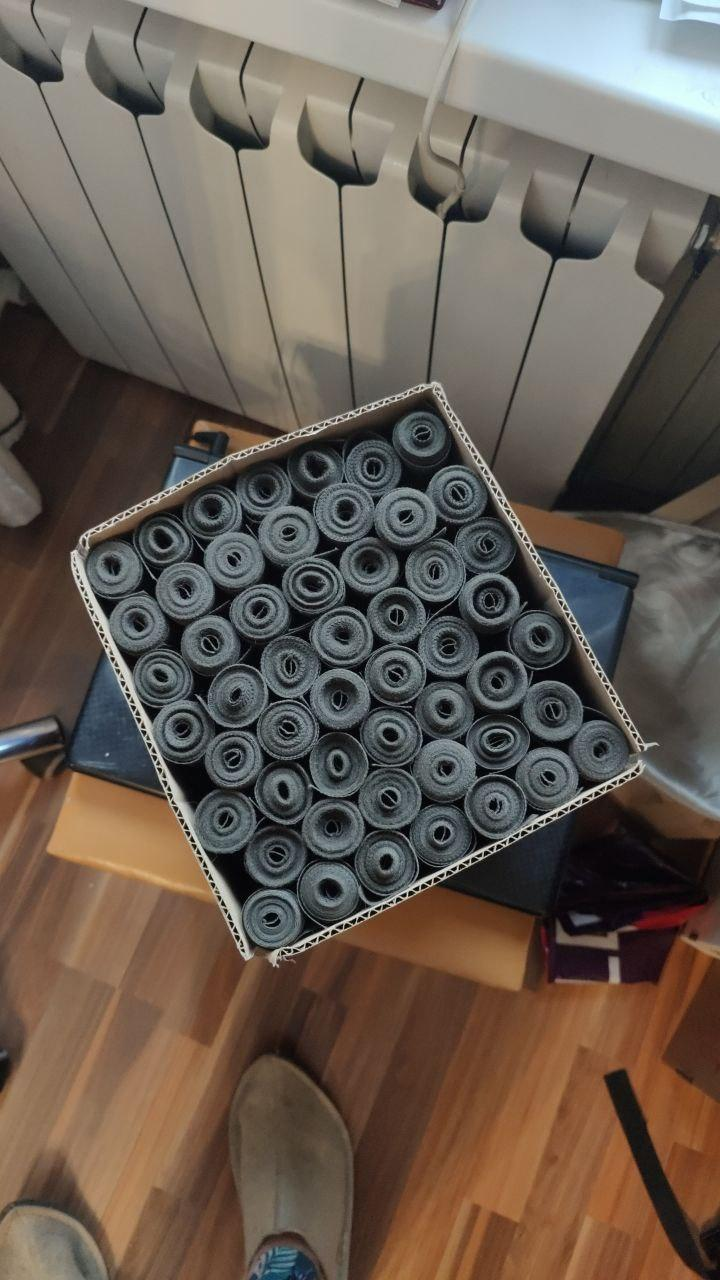roll: (407, 801, 477, 872), (352, 828, 420, 901), (512, 745, 581, 815), (191, 787, 259, 858), (463, 648, 532, 717), (455, 569, 524, 638), (410, 736, 478, 806), (402, 538, 470, 608), (462, 773, 530, 843), (295, 856, 363, 925), (415, 614, 482, 684), (355, 766, 423, 834), (517, 678, 585, 746), (463, 711, 532, 778), (240, 821, 307, 890), (566, 717, 632, 787), (298, 794, 365, 862), (153, 560, 220, 628), (372, 484, 440, 551), (305, 730, 370, 800), (357, 704, 424, 771), (204, 661, 270, 729), (106, 591, 172, 659), (389, 408, 454, 477), (362, 643, 428, 710), (308, 606, 375, 672), (255, 697, 321, 764), (226, 583, 293, 649), (178, 614, 244, 681), (363, 583, 429, 650), (279, 555, 346, 621), (255, 504, 322, 570), (311, 481, 378, 547), (149, 698, 215, 765), (424, 463, 491, 529), (451, 516, 519, 581), (337, 536, 403, 602), (202, 529, 268, 595), (506, 607, 572, 673), (259, 633, 324, 700), (307, 668, 373, 733), (239, 886, 305, 951), (131, 646, 195, 712), (253, 757, 315, 825), (412, 679, 476, 744), (84, 538, 148, 603), (202, 727, 265, 792), (133, 512, 196, 576), (233, 462, 295, 524), (286, 441, 347, 502), (343, 437, 403, 498), (180, 485, 241, 545)
